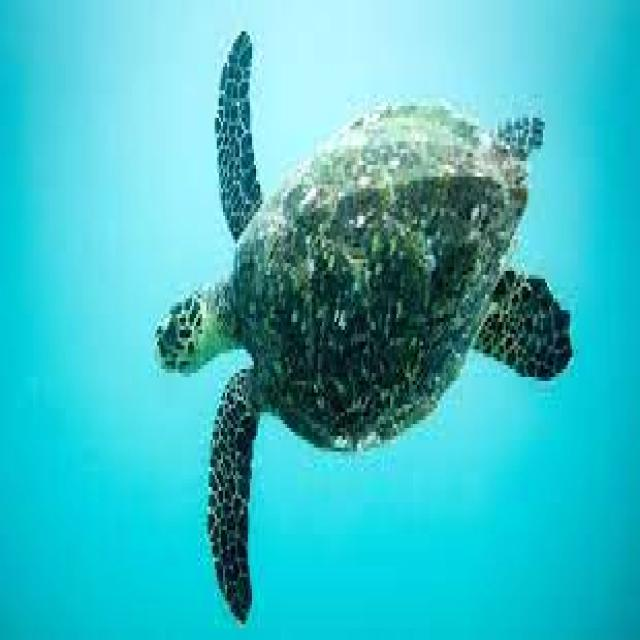Sea turtle: (148, 27, 583, 638)
